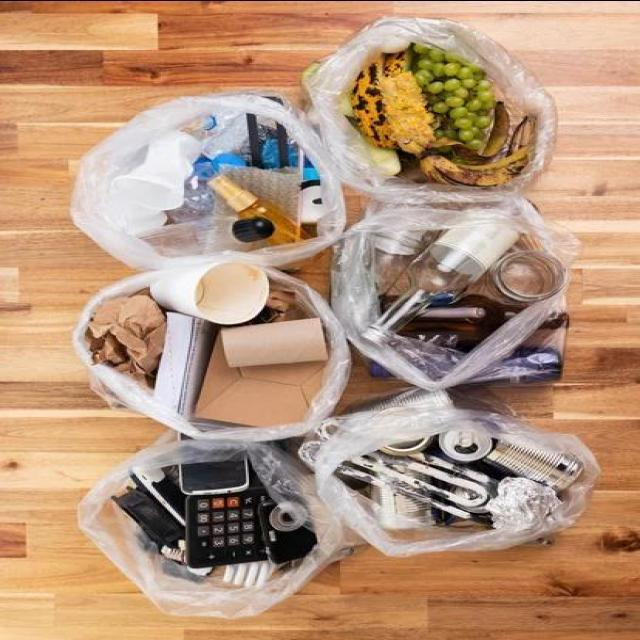E-Waste: (114, 468, 316, 568), (111, 459, 250, 561), (223, 559, 278, 585), (223, 560, 278, 585), (159, 545, 184, 564)
Garbage: (74, 255, 344, 434), (77, 435, 337, 613), (74, 96, 345, 261), (345, 195, 569, 376), (315, 26, 547, 194), (328, 406, 587, 550)
Glass_bottle: (332, 198, 579, 389), (333, 220, 567, 379), (377, 225, 520, 330), (469, 300, 566, 381), (491, 250, 564, 301)
Metal: (335, 429, 570, 529), (303, 416, 345, 464), (362, 388, 454, 409)
Plastic: (72, 91, 346, 268)
contaminated_waste: (74, 196, 598, 555), (72, 92, 340, 268), (361, 213, 562, 338), (343, 429, 584, 532), (126, 459, 315, 585), (139, 212, 272, 250), (297, 150, 333, 227)
